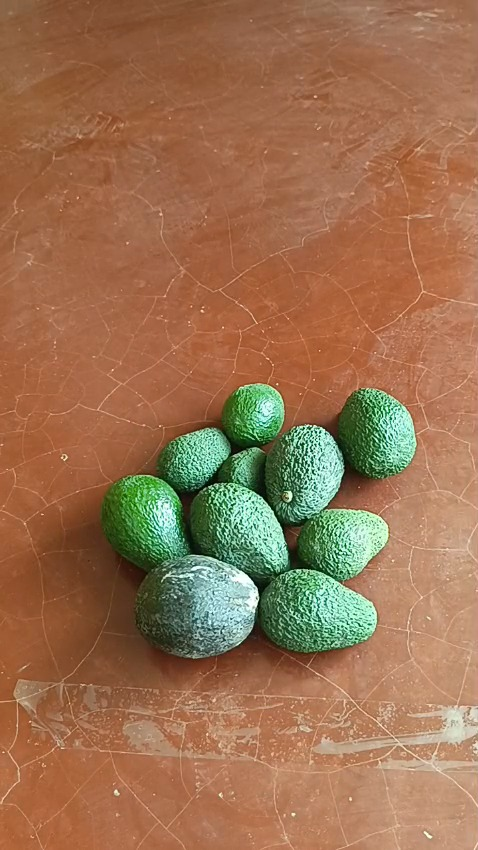Primera: (134, 558, 261, 657), (189, 482, 292, 585), (258, 569, 377, 652), (98, 476, 188, 573), (264, 425, 345, 527), (336, 389, 416, 480)
Segunda: (295, 508, 390, 582), (156, 429, 230, 496), (221, 382, 286, 447)
Tercera: (218, 448, 268, 496)
